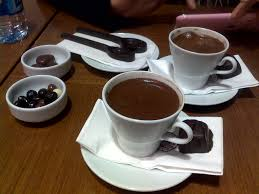kahve: (102, 70, 192, 159)
